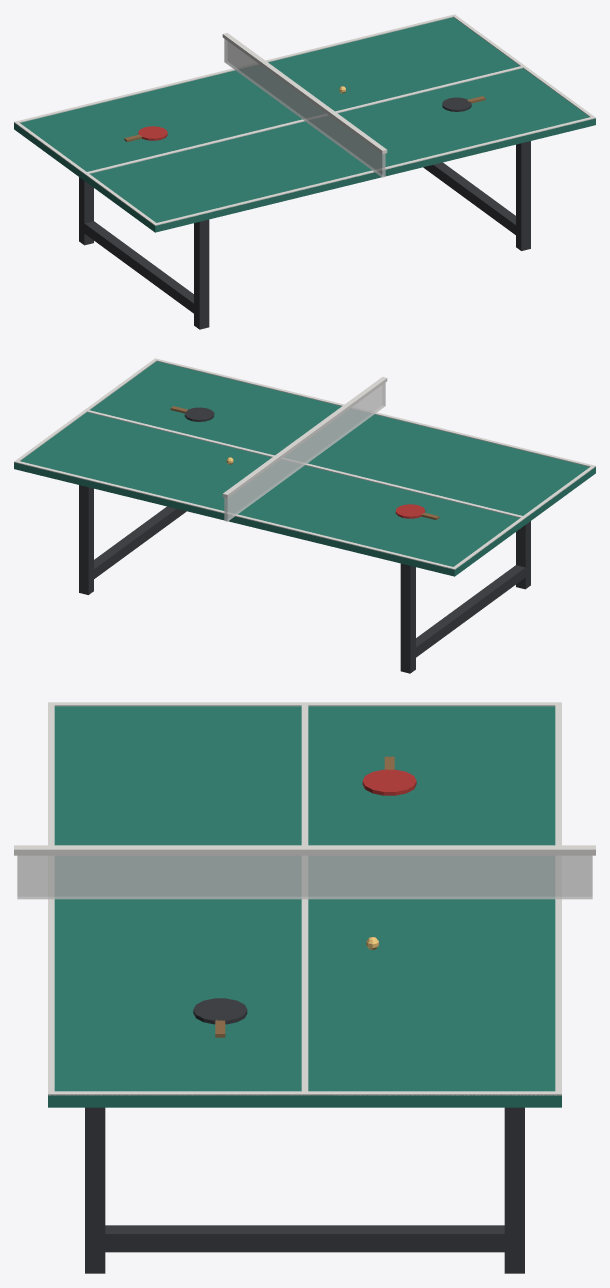
File: ping_pong.glb
3 views of the same model, one above another, from view 1: azimuth 30°, elevation 25°; view 2: azimuth 150°, elevation 25°; view 3: azimuth 270°, elevation 25° (orthographic). The views are drawn at different scales.
Visible parts, largest first — view 1: ping_pong; view 2: ping_pong; view 3: ping_pong.
Boxes of the visible parts, bbox=[...] form: ping_pong: bbox=[14, 14, 595, 329]; ping_pong: bbox=[14, 358, 595, 673]; ping_pong: bbox=[14, 702, 595, 1273].
Size of the model in its own units: 2.74 by 0.91 by 1.72.
